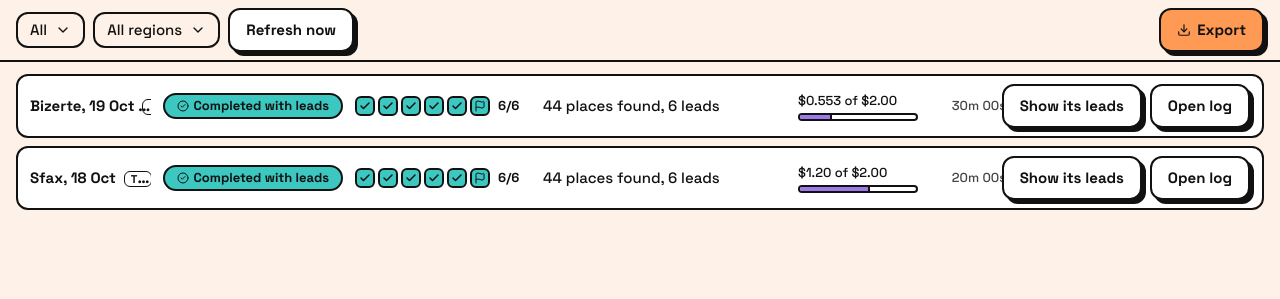
Test: Logs export mode › shows checkboxes only in export mode, with nothing picked and Copy and Download off
The width and height of the screenshot is (1280, 299).
expect the text "Bizerte, 19 Oct" is shown: met, box [30,96,134,115]
Click the button "Export" at (1212, 30), box [1159,8,1264,52]
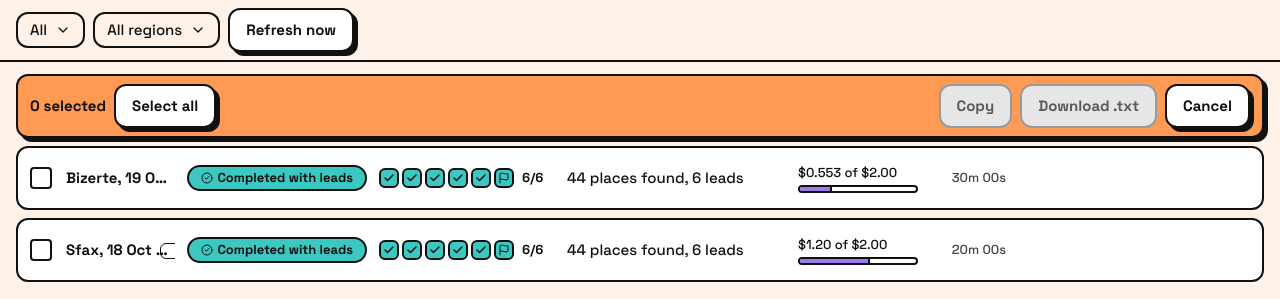
expect the number of checkboxes is 2: met, box [30,167,52,189]; [30,239,52,261]
expect the checkbox named "Pick the run Bizerte, 19 Oct" is not checked: met, box [30,167,52,189]
expect the checkbox named "Pick the run Sfax, 18 Oct" is not checked: met, box [30,239,52,261]
